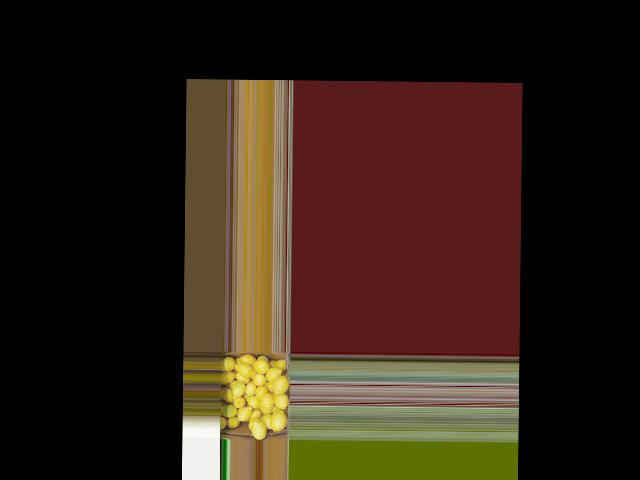lemon: (246, 396, 259, 407)
